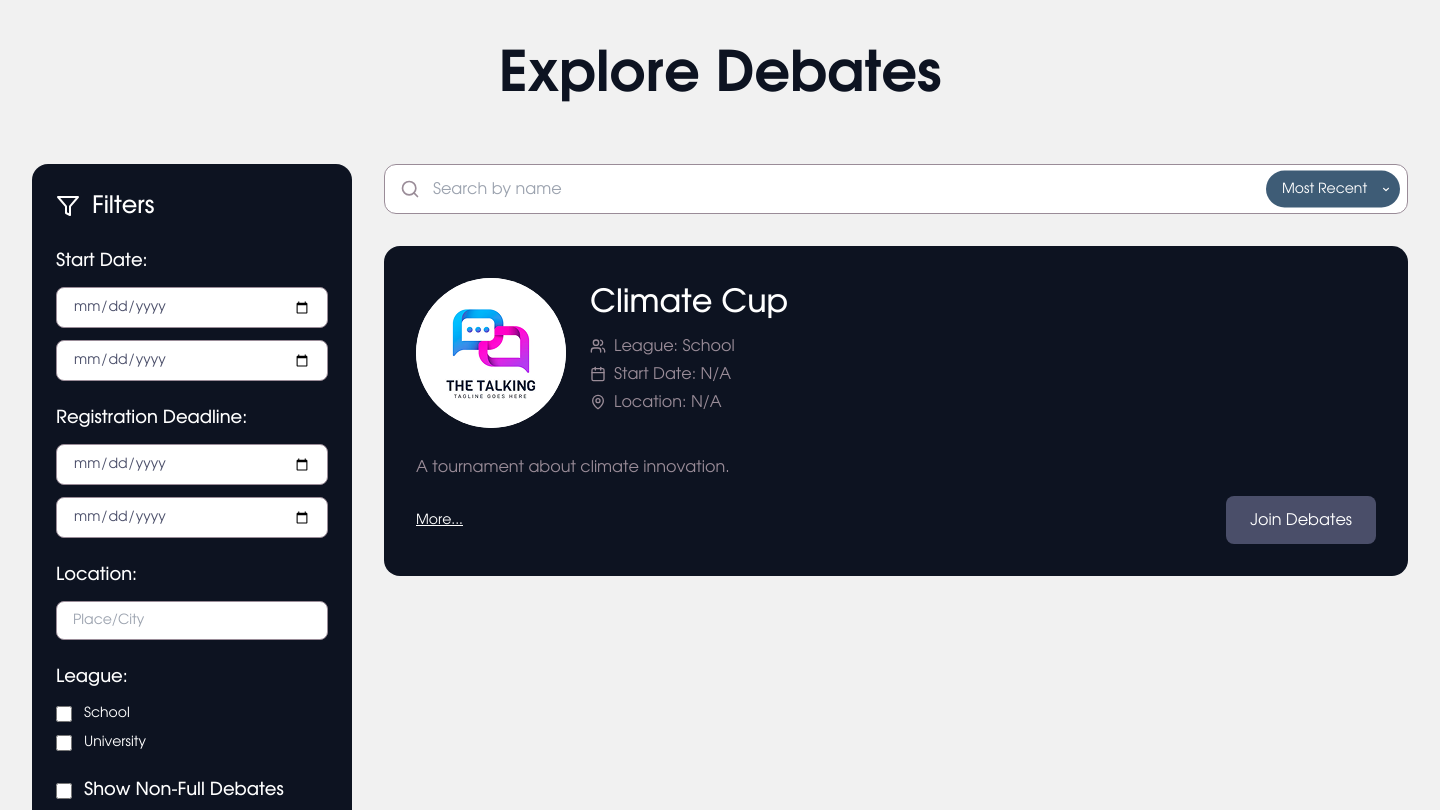
JoinDebatesPage tournament pagination › resets to page zero once when a filter changes
This screenshot has width=1440, height=810.
Expected: the heading "Climate Cup" is shown, [590,286,788,318]
Type "Astana" into the field with placeholder "Place/City" at (192, 620), box [56,601,328,640]
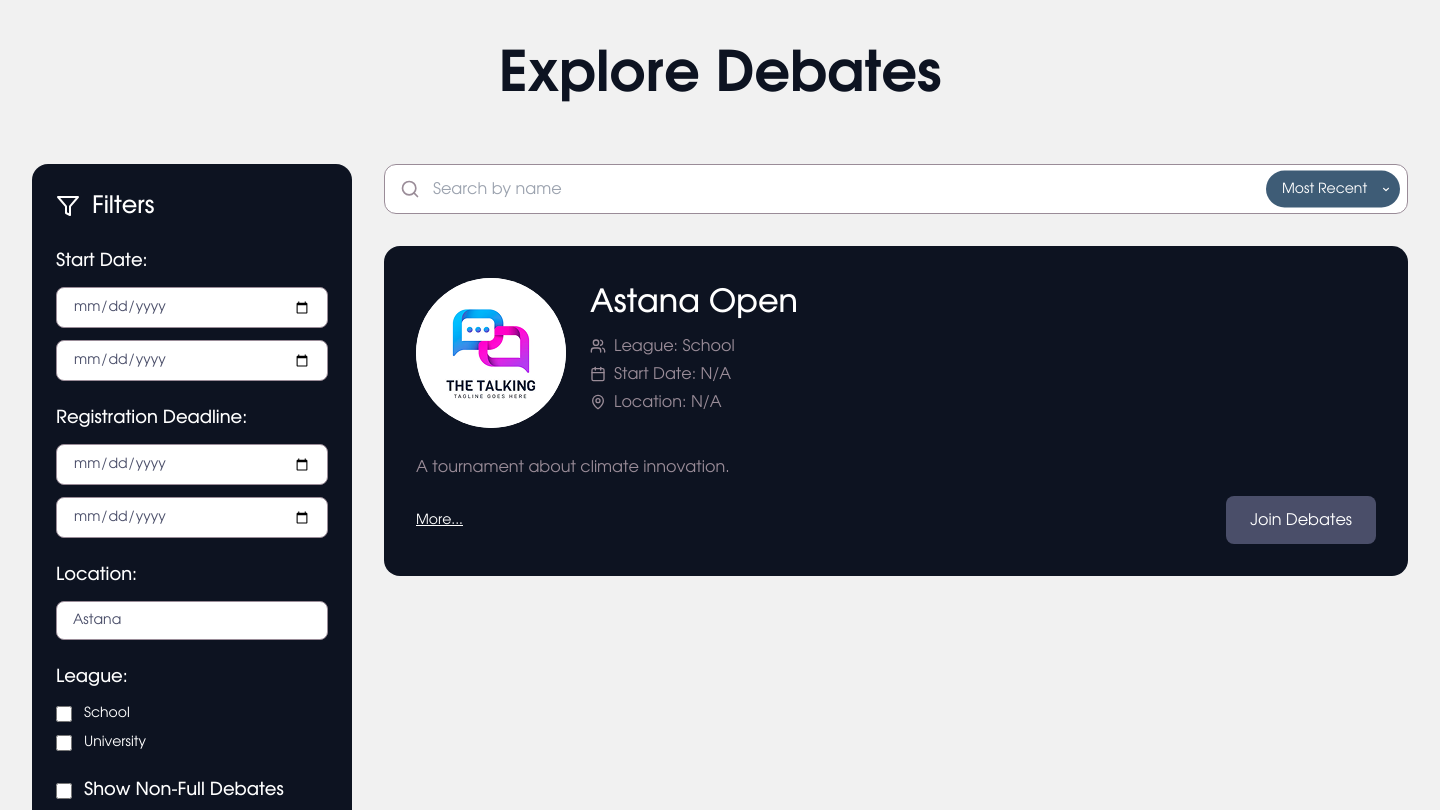
Now the heading "Astana Open" is shown, box [590,286,798,318]
